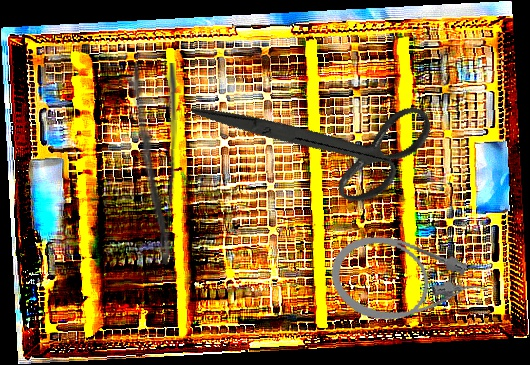Cannula: (321, 226, 495, 342)
Dressing Forceps: (124, 61, 180, 265)
Iris Scissors: (190, 29, 448, 248)
